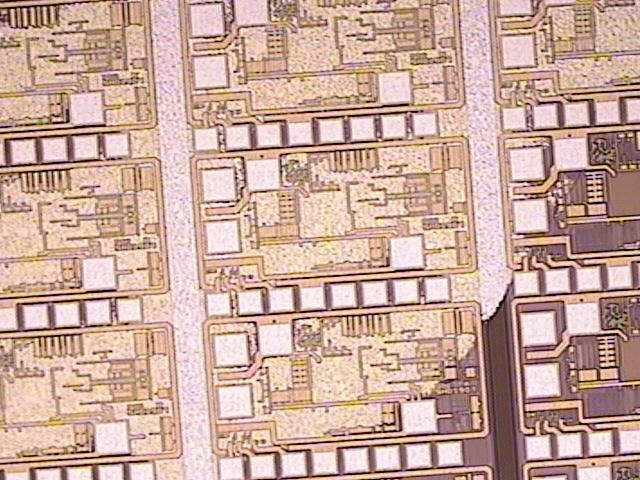BLOCK ETCH: (1, 2, 640, 476)
